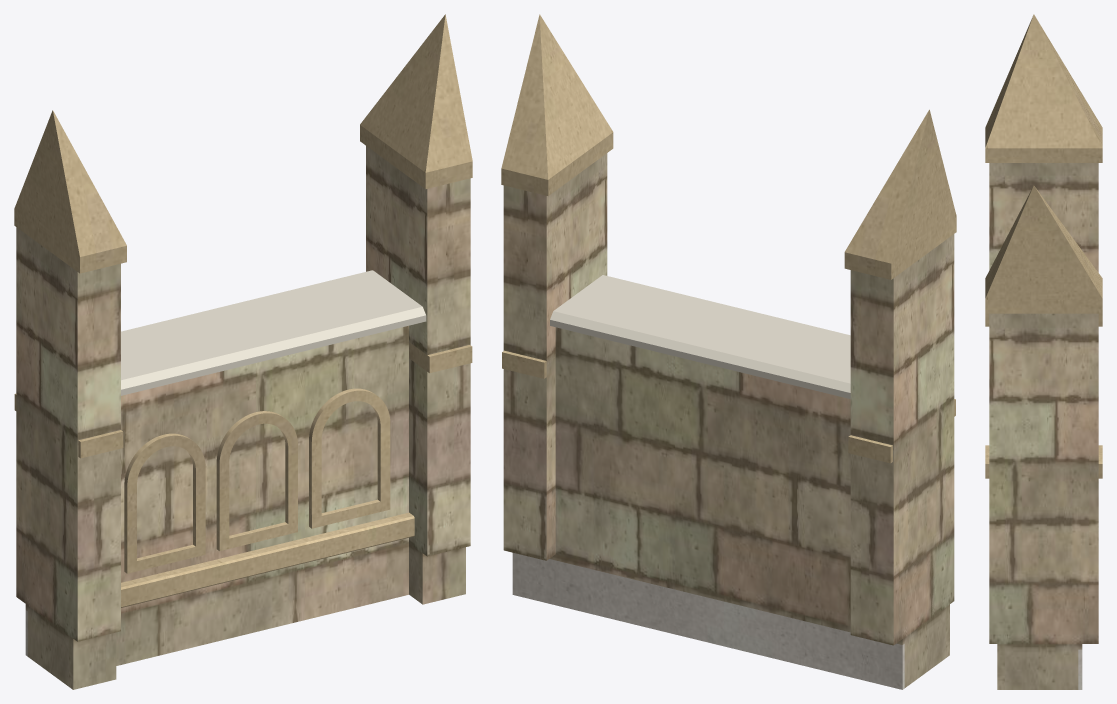
File: f_parapet.glb
3 renders of one model, left to right at view 1: azimuth 30°, elevation 25°; view 2: azimuth 150°, elevation 25°; view 3: azimuth 270°, elevation 25°, orthographic. The views are drawn at different scales.
Visible parts, largest first — view 1: f_parapet_terra, f_parapet_terra2, f_parapet_coping; view 2: f_parapet_terra, f_parapet_terra2, f_parapet_coping, f_parapet_plaster; view 3: f_parapet_terra, f_parapet_terra2.
Boxes of the visible parts, x1=… form: f_parapet_terra: x1=16, y1=146, x2=470, y2=689; f_parapet_terra2: x1=14, y1=14, x2=472, y2=607; f_parapet_coping: x1=121, y1=270, x2=426, y2=395; f_parapet_terra: x1=503, y1=153, x2=954, y2=687; f_parapet_terra2: x1=501, y1=14, x2=956, y2=463; f_parapet_coping: x1=550, y1=275, x2=850, y2=398; f_parapet_plaster: x1=512, y1=553, x2=904, y2=689; f_parapet_terra: x1=989, y1=163, x2=1098, y2=689; f_parapet_terra2: x1=985, y1=14, x2=1102, y2=478.
Bounding box in the file's own units: 2 × 2.75 × 0.58.
4 materials, 3 textured.
